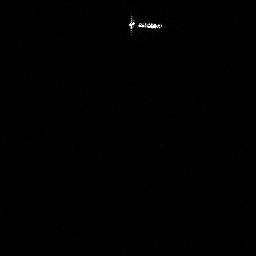ship: (125, 14, 163, 33)
